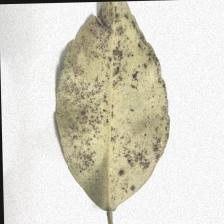canker: (71, 51, 156, 166)
